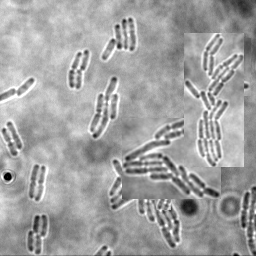Dividing: (67, 52, 81, 89), (1, 128, 18, 157), (34, 166, 47, 202), (28, 164, 39, 200), (239, 192, 249, 229)
Microcolony: (184, 33, 244, 167), (122, 118, 221, 199), (109, 158, 180, 249), (217, 38, 251, 96), (88, 76, 119, 139), (101, 18, 136, 61), (27, 214, 48, 255)
Rod: (5, 121, 23, 150), (16, 78, 34, 99), (156, 186, 171, 210), (79, 50, 89, 72), (73, 69, 82, 90)
